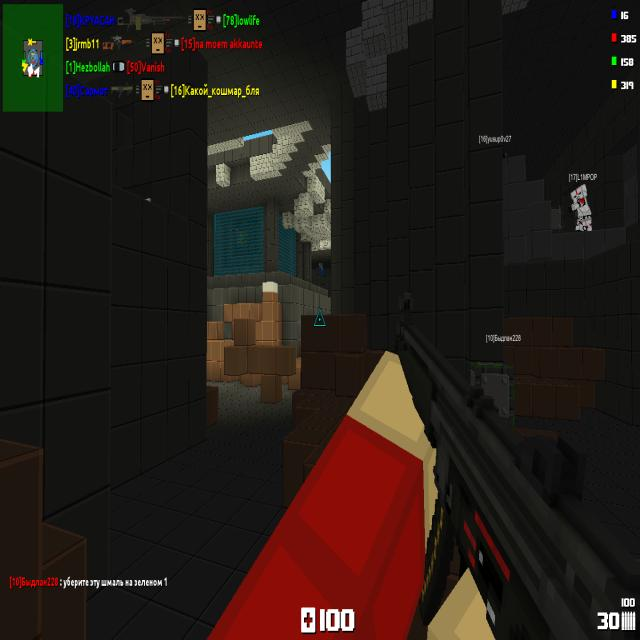enemy: (318, 263, 324, 276)
